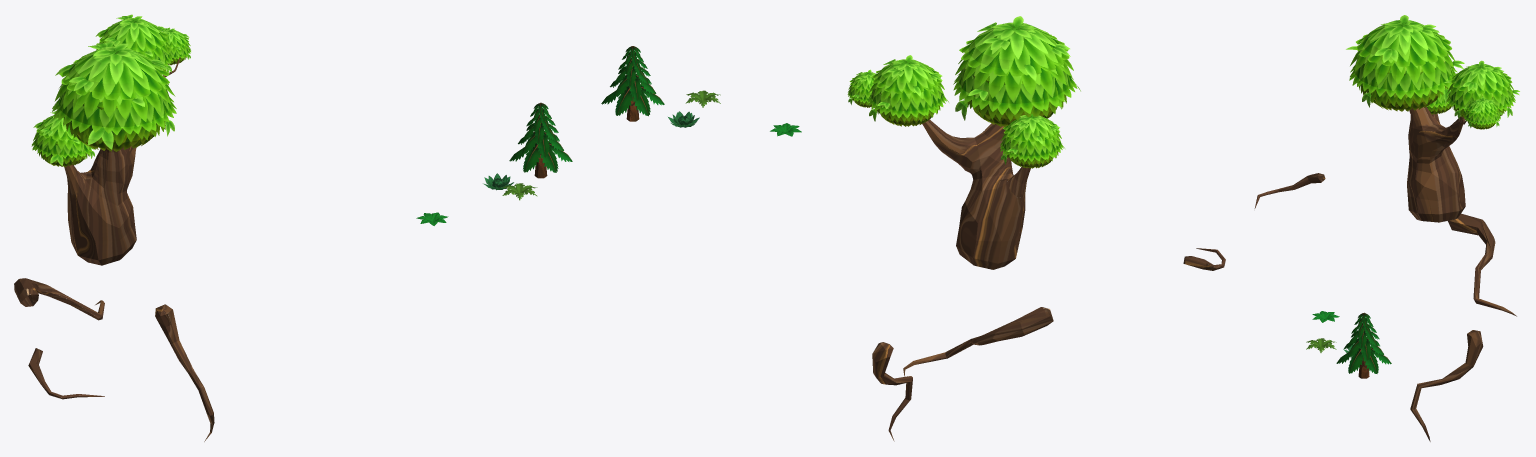
File: Diorama2-2.fbx
3 renders of one model, left to right at view 1: azimuth 30°, elevation 25°; view 2: azimuth 150°, elevation 25°; view 3: azimuth 270°, elevation 25°, orthographic. The views are drawn at different scales.
Visible parts, largest first — view 1: Sphere.004, Plane.002; view 2: Sphere.004, Plane.002; view 3: Sphere.004, Plane.002.
Part boxes in pixels (x1,y1,x2,y2): Sphere.004: (14, 14, 214, 441); Plane.002: (509, 102, 572, 172); Sphere.004: (847, 16, 1225, 441); Plane.002: (601, 46, 664, 116); Sphere.004: (1254, 15, 1519, 441); Plane.002: (1336, 312, 1391, 373).
Size of the model in its own units: 3537 by 2576 by 1654.
3 materials, 3 textured.
